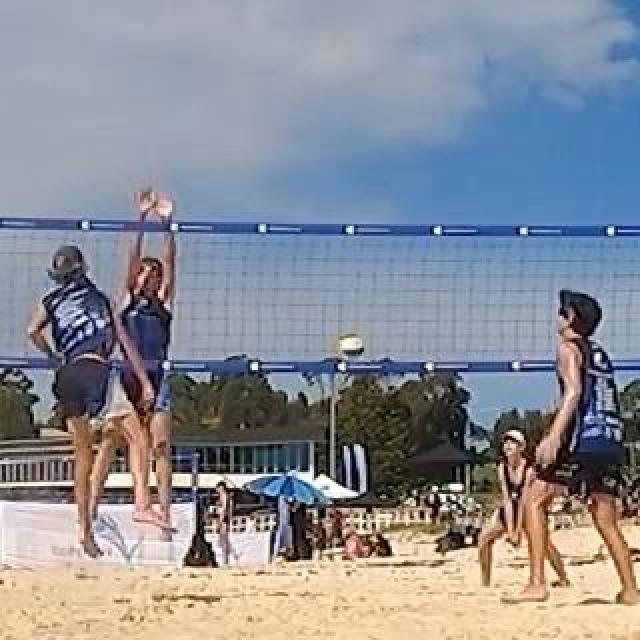volleyball: (338, 333, 364, 357)
